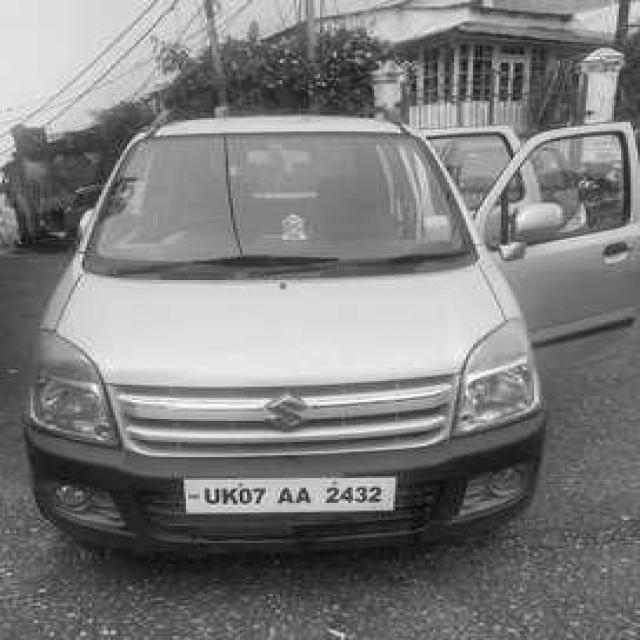car: (28, 106, 640, 570)
license-plate: (182, 478, 402, 518)
